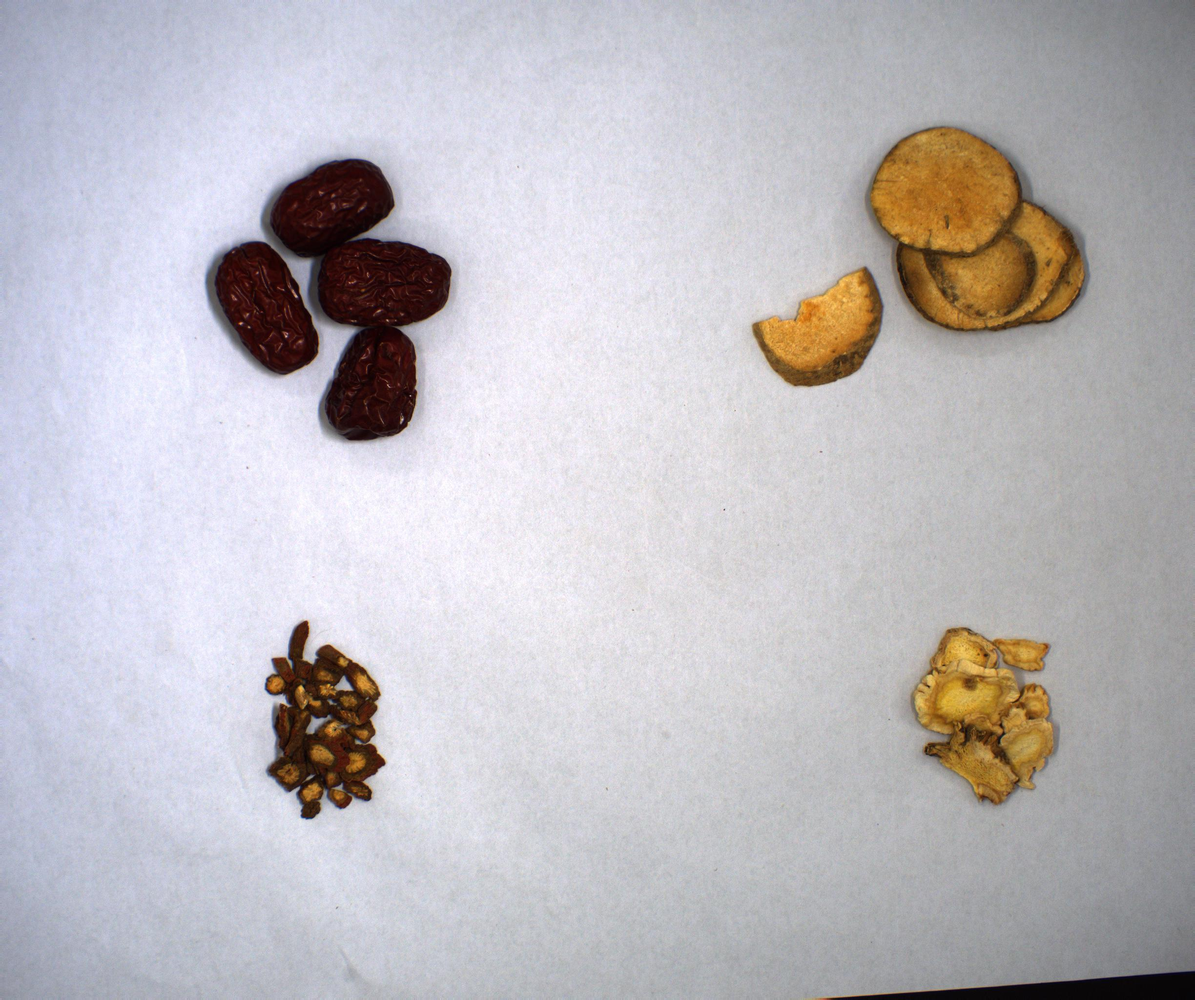danshen: (229, 583, 395, 848)
dazao: (191, 116, 480, 494)
jiegeng: (891, 581, 1074, 846)
zexie: (748, 87, 1154, 493)
